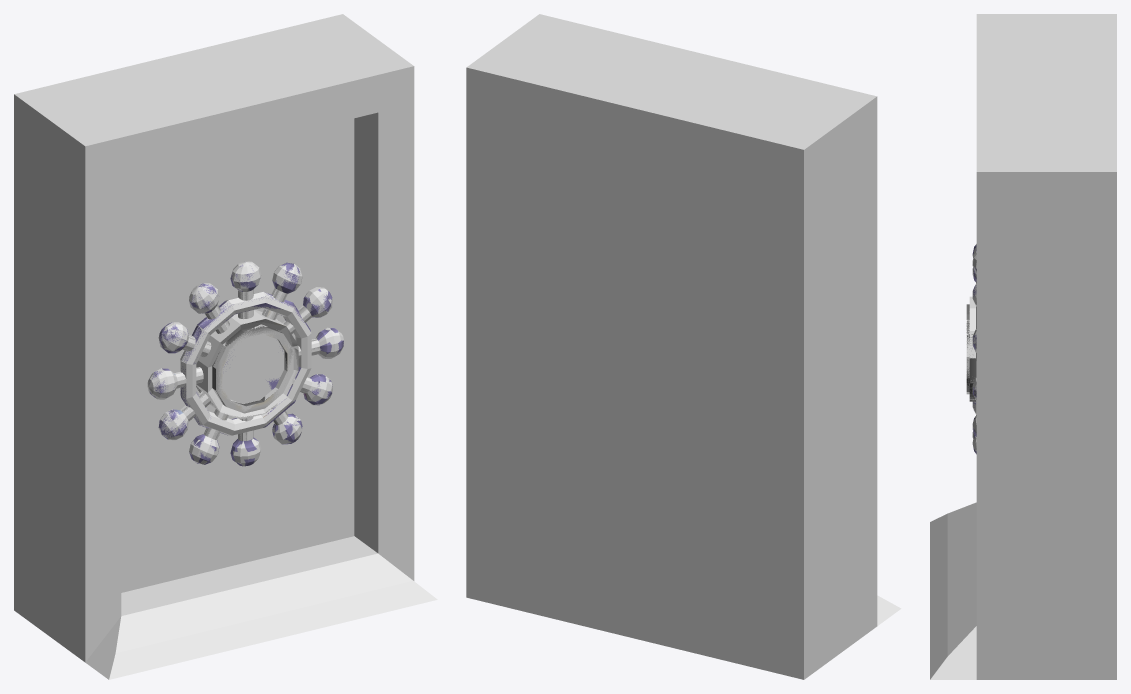
The model's file is Door.fbx.
3 views of the same model, side by side, from view 1: azimuth 30°, elevation 25°; view 2: azimuth 150°, elevation 25°; view 3: azimuth 270°, elevation 25° (orthographic). The views are drawn at different scales.
Parts seen in each view (by area): view 1: Door, cylinder, door; view 2: Door; view 3: Door, cylinder, door.
Boxes of the visible parts, <box> form: Door: <box>14,14,437,679</box>; cylinder: <box>147,261,343,466</box>; door: <box>149,262,343,466</box>; Door: <box>466,14,901,679</box>; Door: <box>930,14,1116,679</box>; cylinder: <box>966,244,976,454</box>; door: <box>966,245,976,453</box>.
Size of the model in its own units: 75.65 by 113 by 37.83.
Materials: 1 (1 with a texture image).
